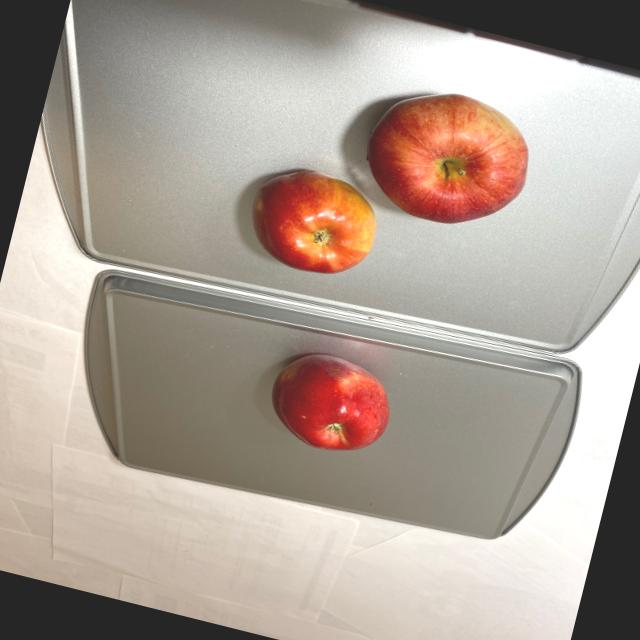apple: (240, 50, 544, 318), (260, 340, 399, 462)
